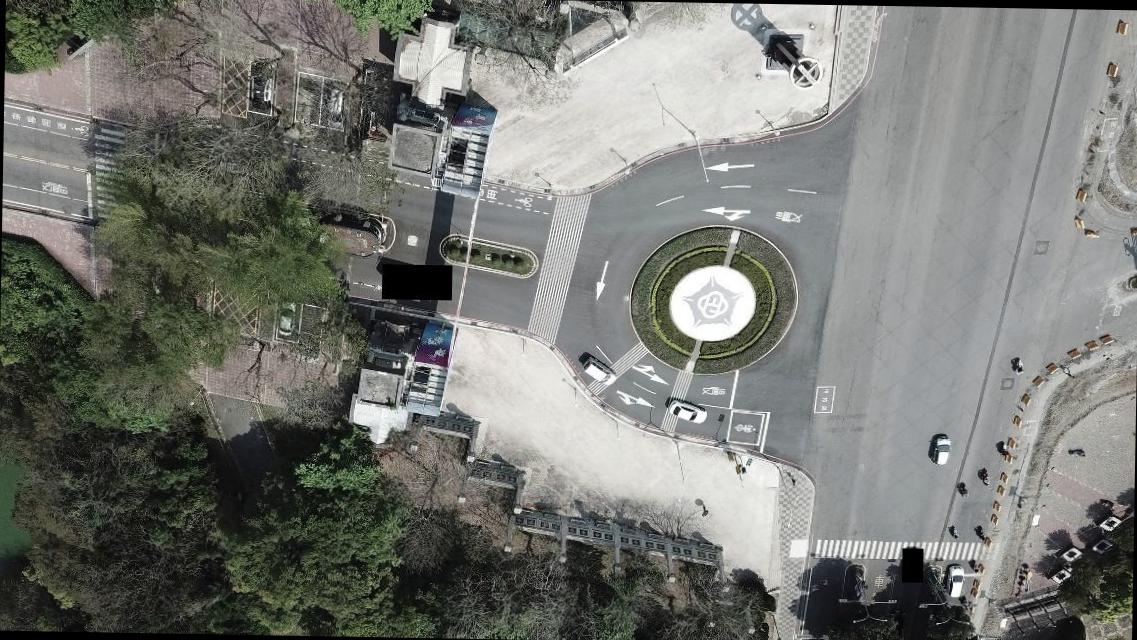vehicle: (250, 62, 276, 114), (580, 355, 616, 386), (668, 400, 708, 426), (324, 84, 346, 129), (278, 298, 296, 338), (945, 565, 965, 598), (930, 436, 950, 466)
